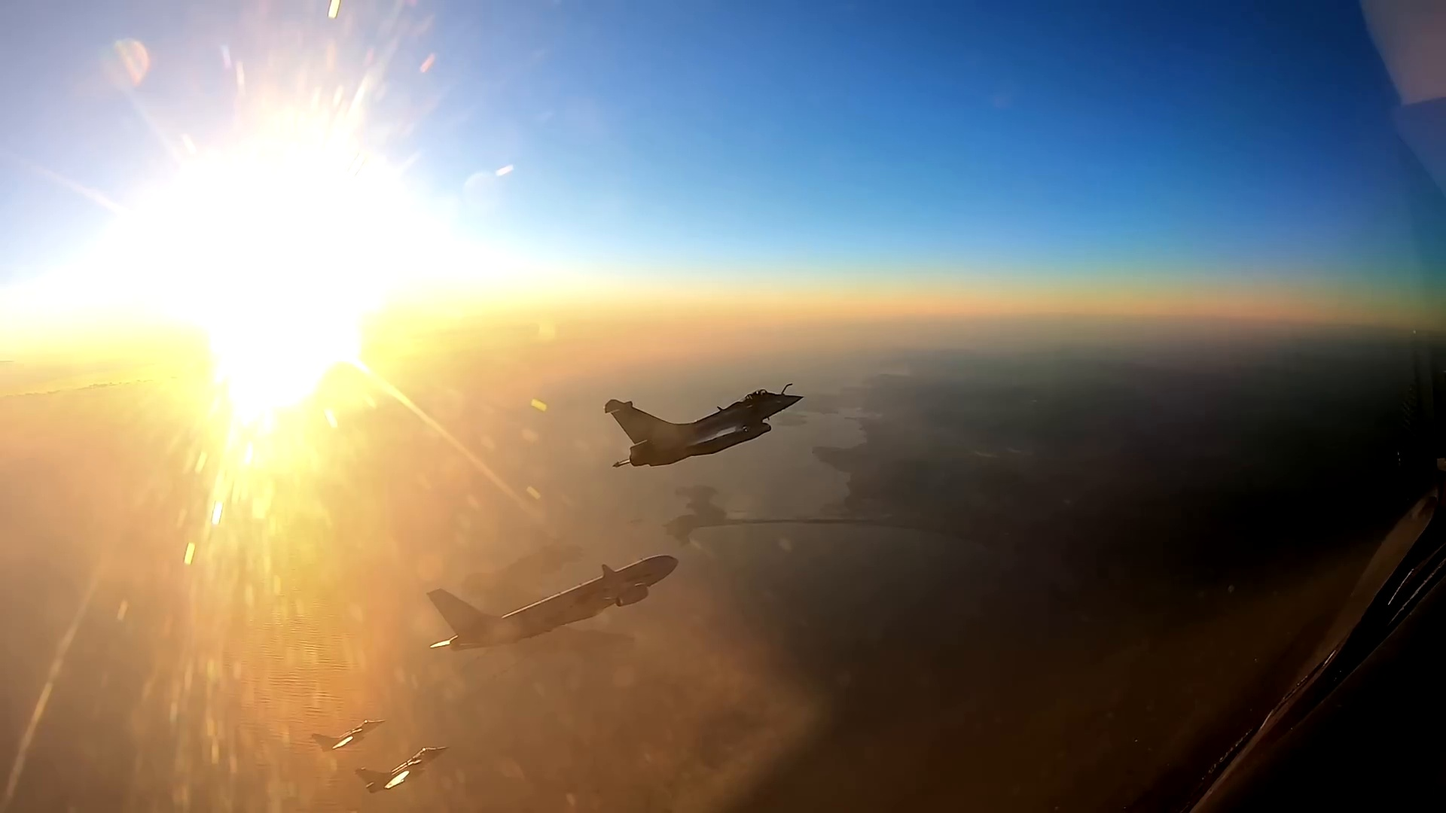Rafale: (603, 384, 806, 469), (356, 748, 449, 794), (306, 715, 392, 754)
